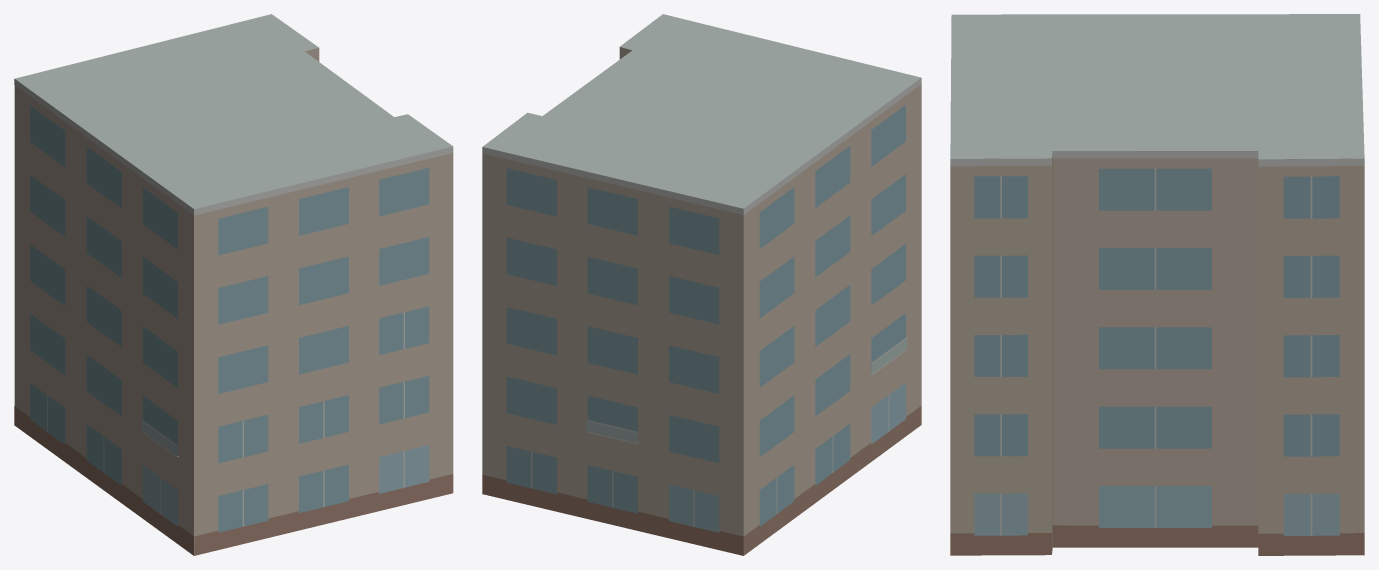
The model's file is survey-upis-32931874.glb.
The picture shows the model from 3 angles, left to right: view 1: azimuth 30°, elevation 25°; view 2: azimuth 150°, elevation 25°; view 3: azimuth 270°, elevation 25°; orthographic projection. The views are drawn at different scales.
Parts seen in each view (by area): view 1: survey-upis-32931874.tmp; view 2: survey-upis-32931874.tmp; view 3: survey-upis-32931874.tmp.
Part boxes in pixels (x1,y1,x2,y2): survey-upis-32931874.tmp: (14, 14, 453, 555); survey-upis-32931874.tmp: (482, 14, 921, 555); survey-upis-32931874.tmp: (950, 14, 1364, 555).
Size of the model in its own units: 10.39 by 13.2 by 12.51.
